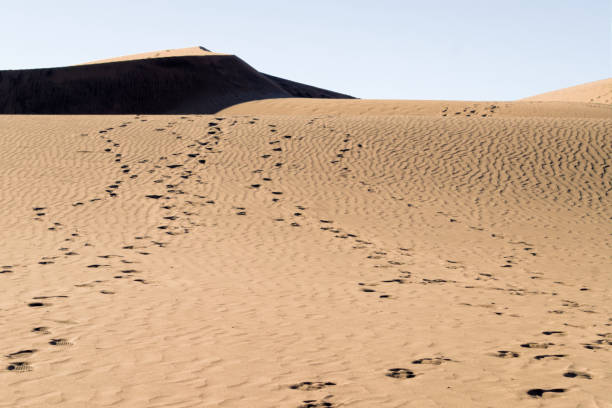animal_footprint: (92, 260, 152, 294), (98, 128, 137, 176), (322, 216, 373, 250), (36, 324, 86, 356), (154, 186, 186, 234), (158, 150, 198, 184), (346, 276, 398, 302), (33, 203, 68, 236), (123, 234, 168, 258), (12, 346, 42, 378), (252, 116, 294, 138), (204, 116, 228, 149), (154, 122, 187, 144), (30, 294, 70, 310), (532, 383, 564, 399), (560, 366, 594, 381), (40, 252, 64, 273), (339, 135, 372, 150), (487, 346, 522, 360), (302, 395, 336, 408), (289, 381, 335, 390), (80, 190, 104, 207), (522, 339, 551, 353), (415, 358, 460, 367), (517, 240, 541, 256), (437, 206, 459, 223), (541, 330, 571, 342), (288, 210, 310, 225), (385, 368, 415, 378), (584, 339, 606, 352), (111, 178, 124, 199), (236, 208, 254, 219), (264, 152, 278, 166), (249, 182, 263, 192), (274, 192, 286, 199), (255, 170, 266, 176), (330, 159, 342, 164)
